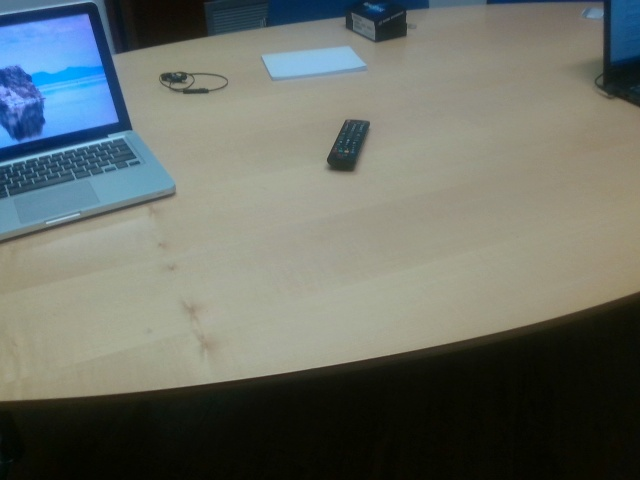remote: (327, 119, 369, 167)
